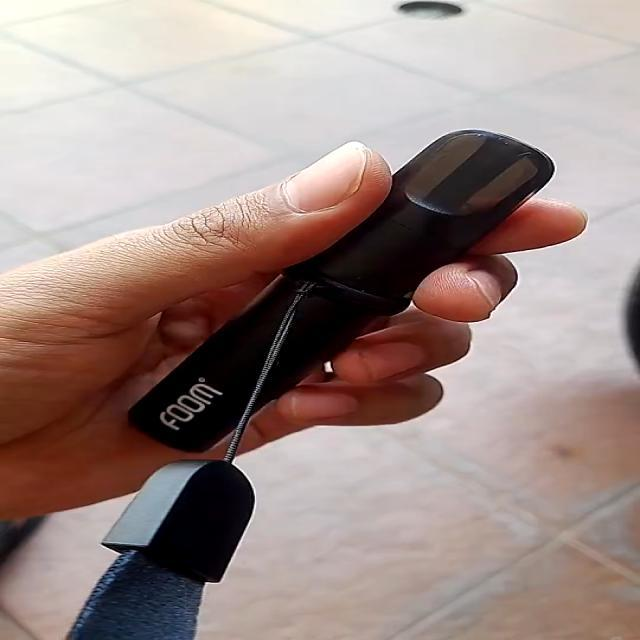Hazard: (136, 124, 554, 453)
